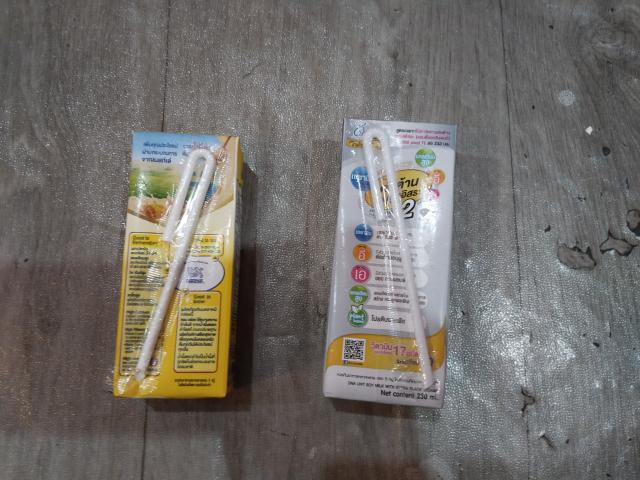drink_box: (326, 114, 452, 416), (122, 124, 245, 404)
